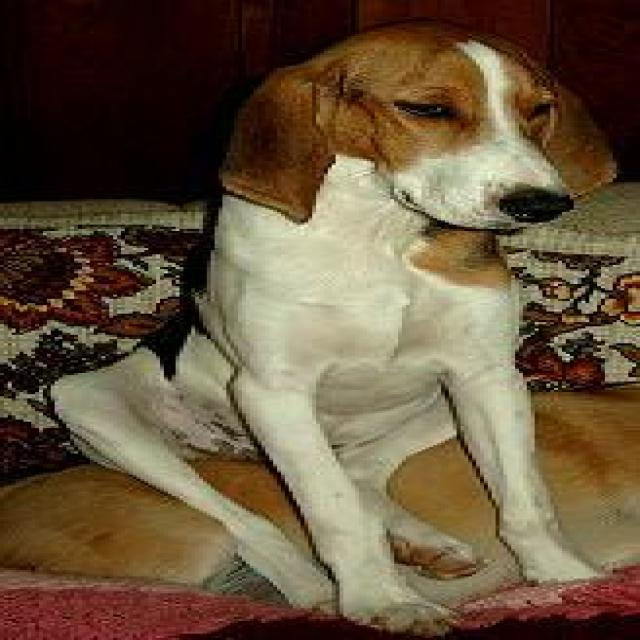sitting: (32, 16, 627, 637)
